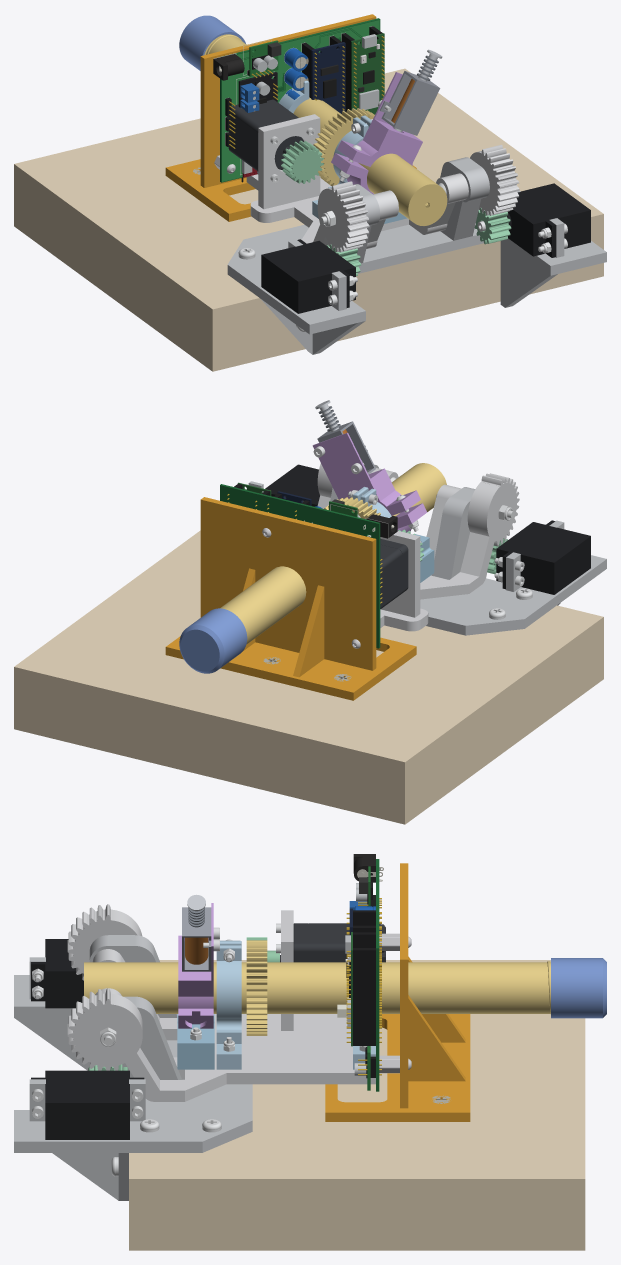
Rendered from assembly_current.glb.
3 views of the same model, one above another, from view 1: azimuth 30°, elevation 25°; view 2: azimuth 150°, elevation 25°; view 3: azimuth 270°, elevation 25° (orthographic). The views are drawn at different scales.
Visible parts, largest first — view 1: assembly_current (×25); view 2: assembly_current (×12); view 3: assembly_current (×18).
Boxes of the visible parts, left/top/right/bottom form: assembly_current (×25): left=14, top=14, right=606, bottom=371; assembly_current (×12): left=14, top=421, right=606, bottom=824; assembly_current (×18): left=14, top=859, right=606, bottom=1250.
Bounding box in the file's own units: 0.25 × 0.1479 × 0.2858.
